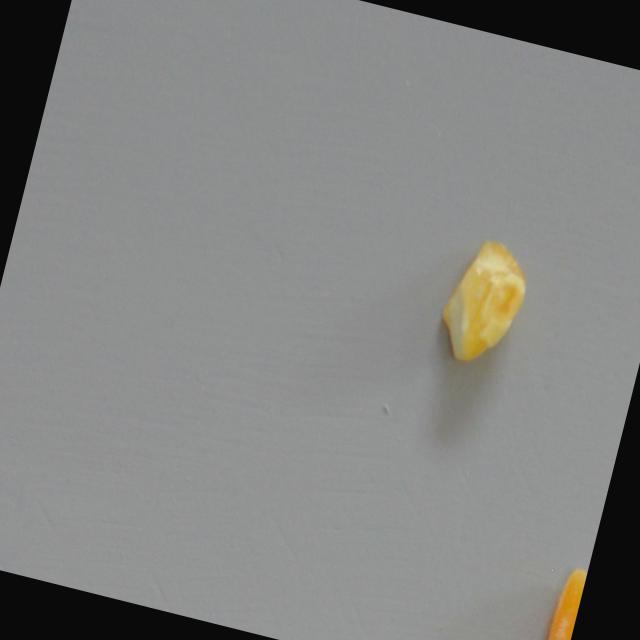dañado: (425, 228, 540, 374), (534, 551, 590, 640)
